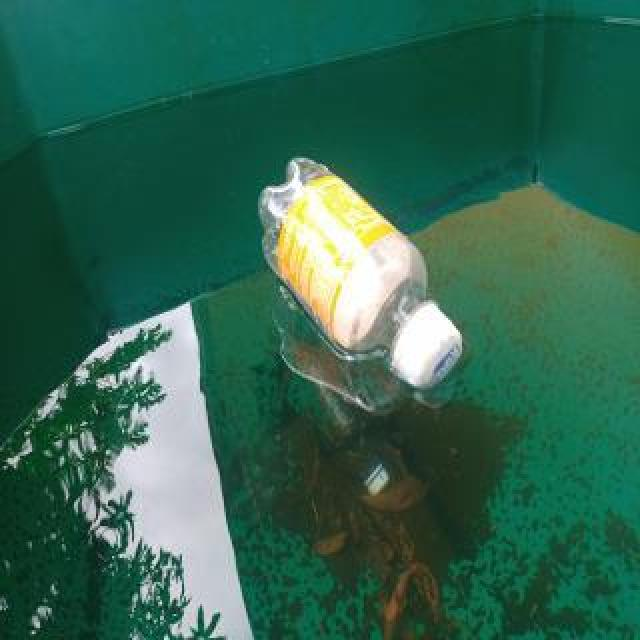bottle: (256, 148, 466, 394)
